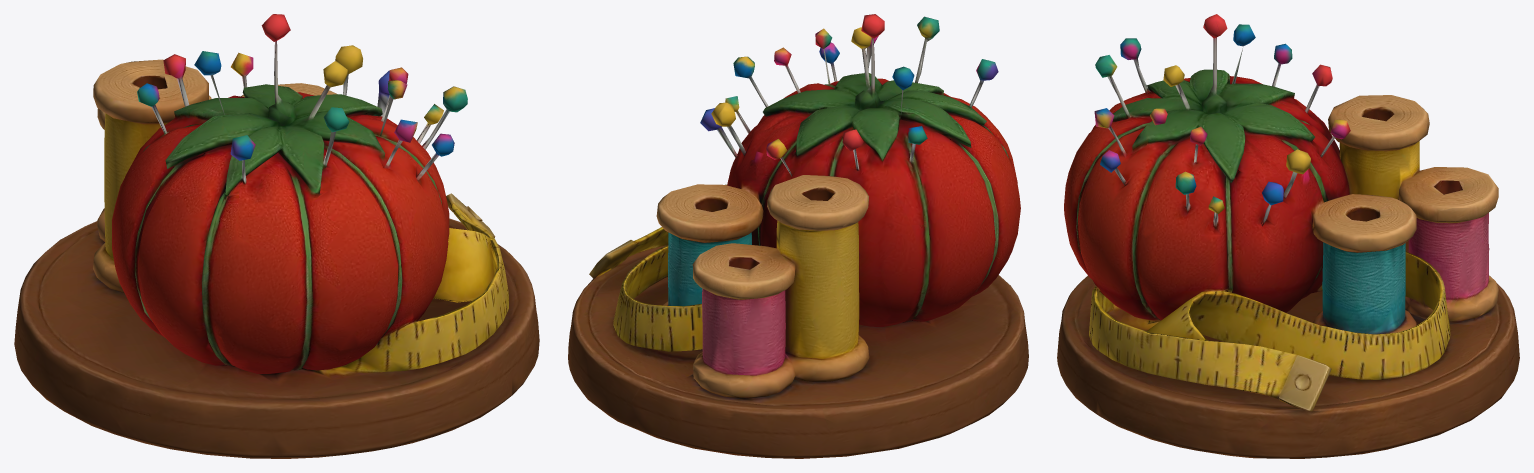
File: sewing.glb
The picture shows the model from 3 angles, left to right: view 1: azimuth 30°, elevation 25°; view 2: azimuth 150°, elevation 25°; view 3: azimuth 270°, elevation 25°; orthographic projection. The views are drawn at different scales.
Visible parts, largest first — view 1: node_d7ed1d0c-8592-4b36-8027-948f3f3e6e24; view 2: node_d7ed1d0c-8592-4b36-8027-948f3f3e6e24; view 3: node_d7ed1d0c-8592-4b36-8027-948f3f3e6e24.
Boxes of the visible parts, x1,y1,x2,y2 form: node_d7ed1d0c-8592-4b36-8027-948f3f3e6e24: [14, 14, 539, 458]; node_d7ed1d0c-8592-4b36-8027-948f3f3e6e24: [568, 14, 1028, 458]; node_d7ed1d0c-8592-4b36-8027-948f3f3e6e24: [1057, 14, 1519, 458].
Size of the model in its own units: 0.996 by 0.7886 by 1.
Materials: 1 (1 with a texture image).
